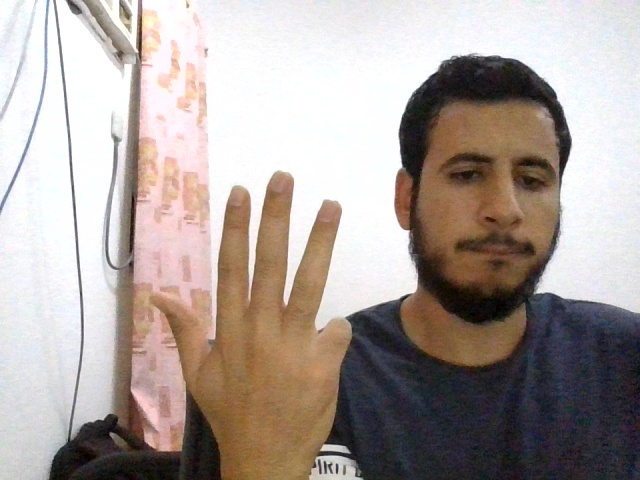Four: (149, 169, 353, 462)
